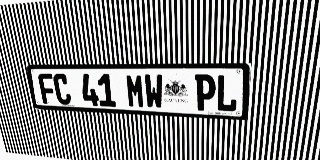1: (96, 74, 116, 107)
4: (79, 74, 99, 106)
C: (52, 74, 72, 105)
F: (37, 74, 57, 104)
L: (216, 74, 239, 112)
M: (125, 74, 145, 108)
P: (195, 74, 216, 111)
W: (144, 74, 164, 109)
